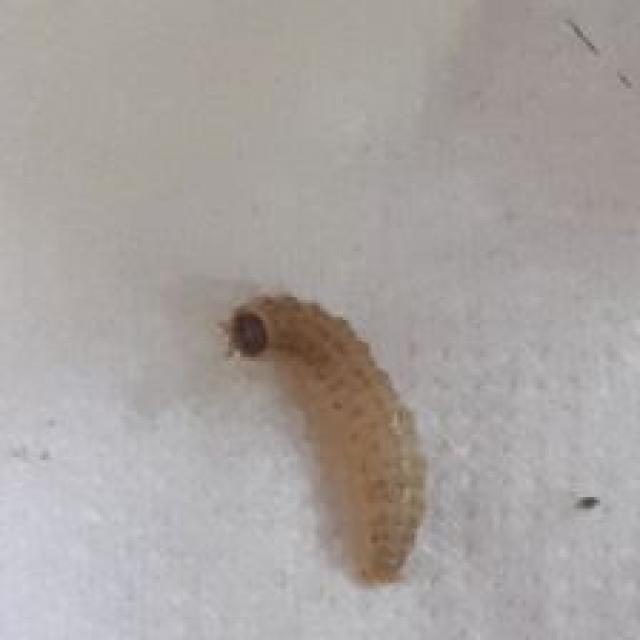white mucus: (182, 281, 461, 577)
